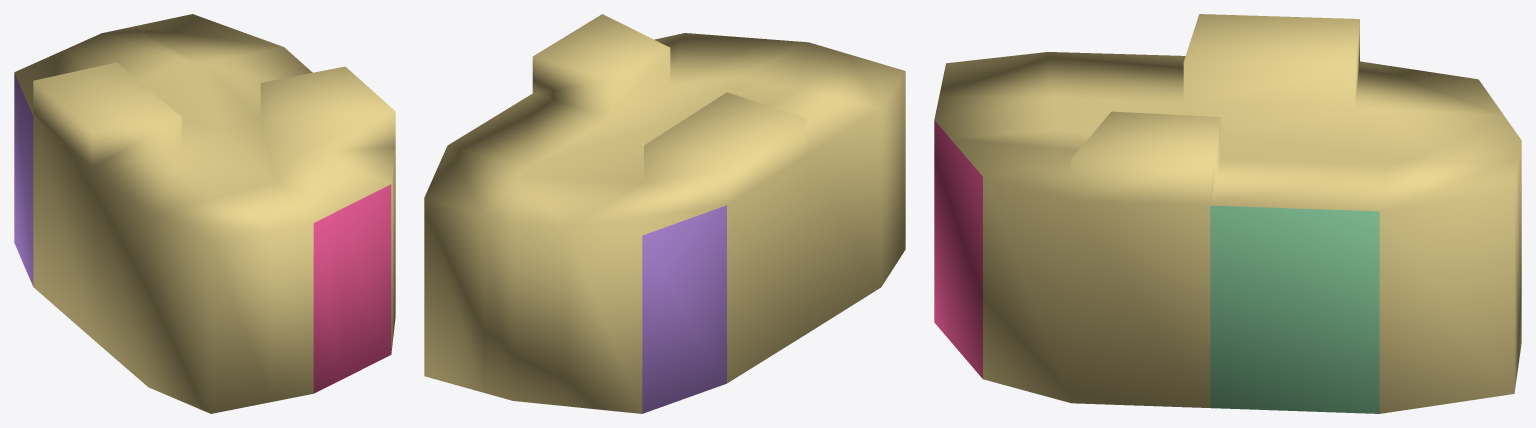
The model's file is Kyle_B_2_1.fbx.
3 views of the same model, side by side, from view 1: azimuth 30°, elevation 25°; view 2: azimuth 150°, elevation 25°; view 3: azimuth 270°, elevation 25° (orthographic). The views are drawn at different scales.
Visible parts, largest first — view 1: Kyle_B_2_1; view 2: Kyle_B_2_1; view 3: Kyle_B_2_1.
Part boxes in pixels (x1=…): Kyle_B_2_1: x1=14, y1=14, x2=395, y2=413; Kyle_B_2_1: x1=424, y1=14, x2=905, y2=413; Kyle_B_2_1: x1=934, y1=14, x2=1521, y2=413.
Size of the model in its own units: 1601 by 1146 by 2491.
